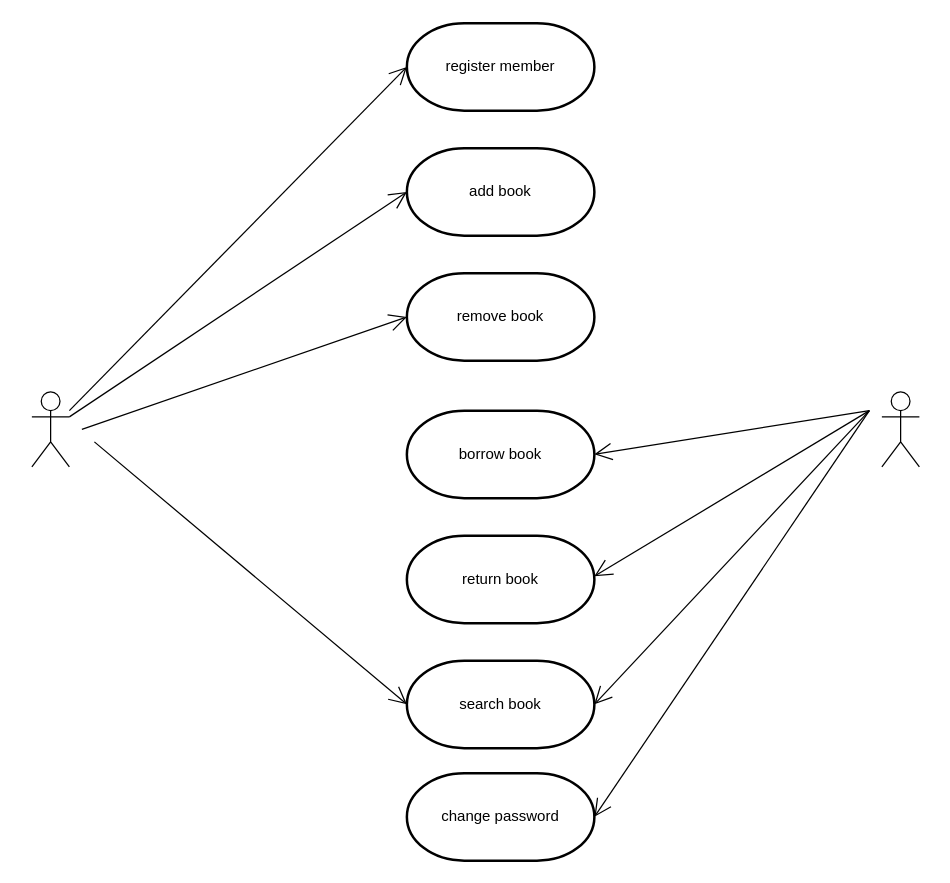
Some shapes in this 950 by 883 pixel diagram are drawn without their labels. Here are the shapes that lost their labels. From the top down, the centre of each, then its label:
At (x=50, y=429): "Librarian".
At (x=900, y=429): "member".
